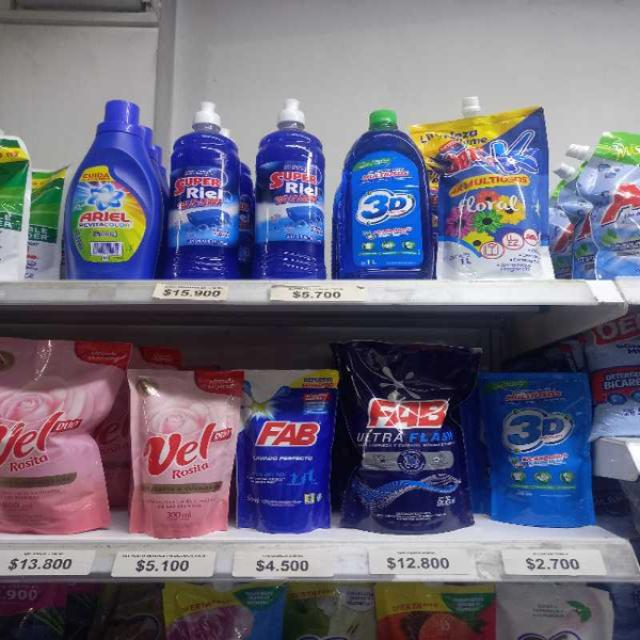Super_Riel: (164, 98, 247, 282), (248, 103, 330, 281)
